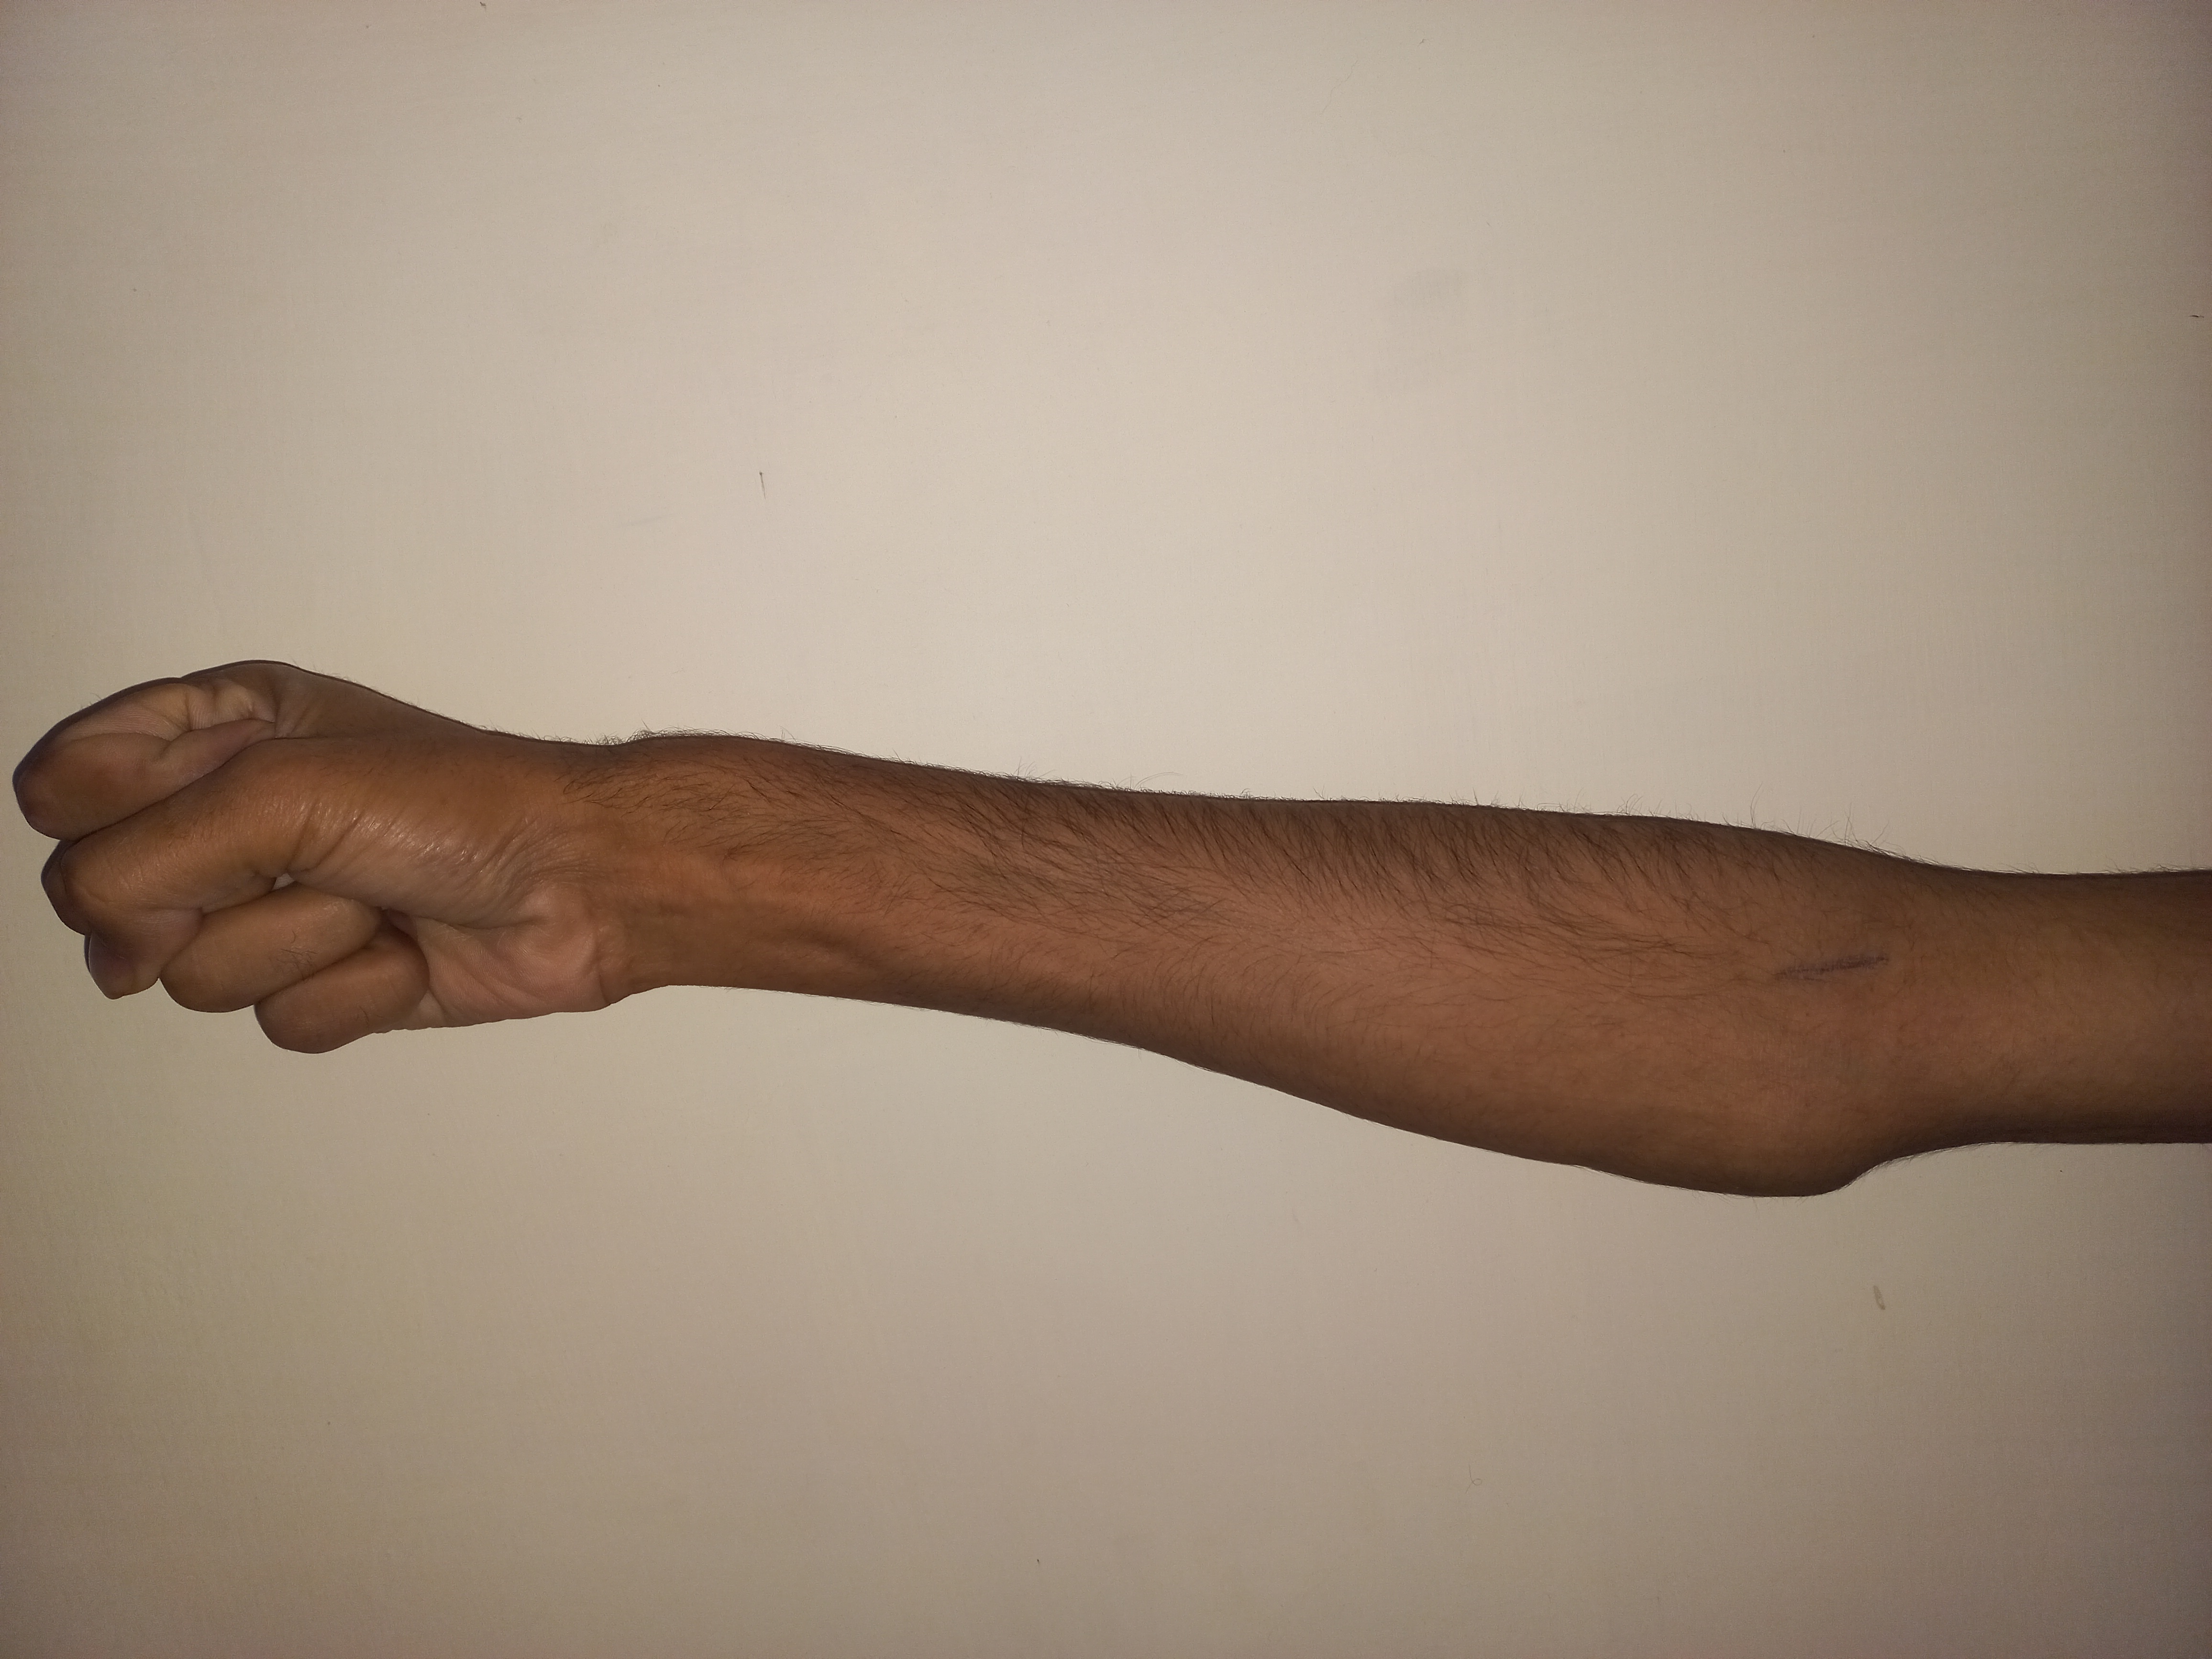vein: (1771, 950, 1923, 990)
